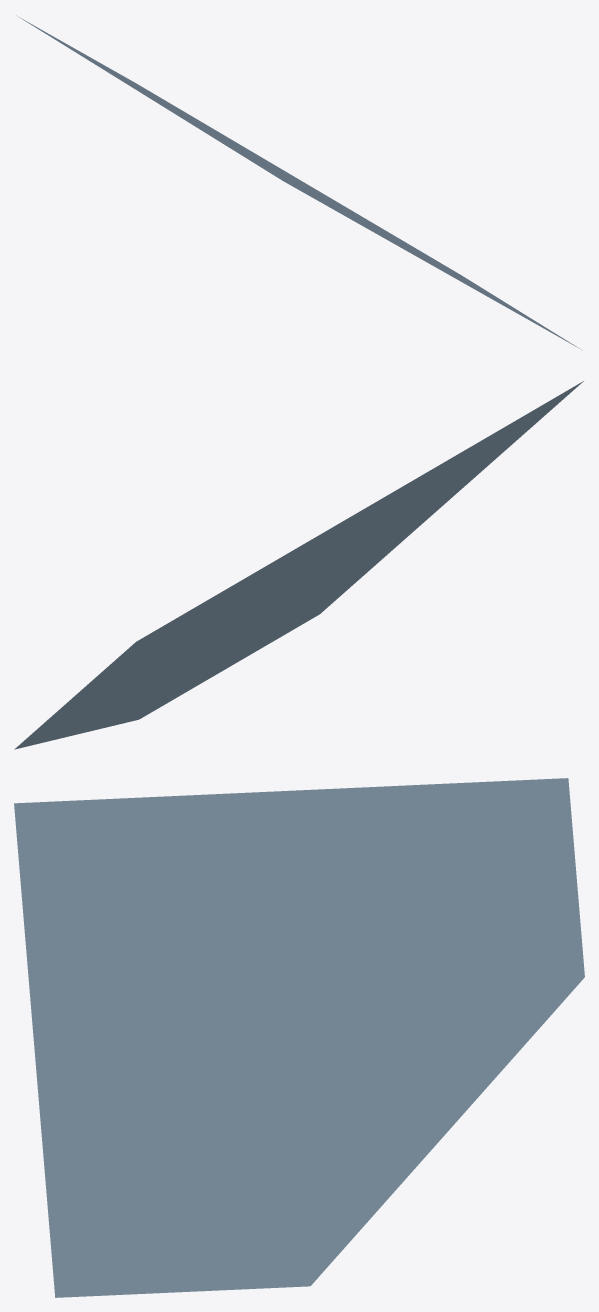
The picture shows the model from 3 angles, top to bottom: view 1: azimuth 30°, elevation 25°; view 2: azimuth 150°, elevation 25°; view 3: azimuth 270°, elevation 25°; orthographic projection. The views are drawn at different scales.
Bounding box in the file's own units: 490 × 351 × 577.
